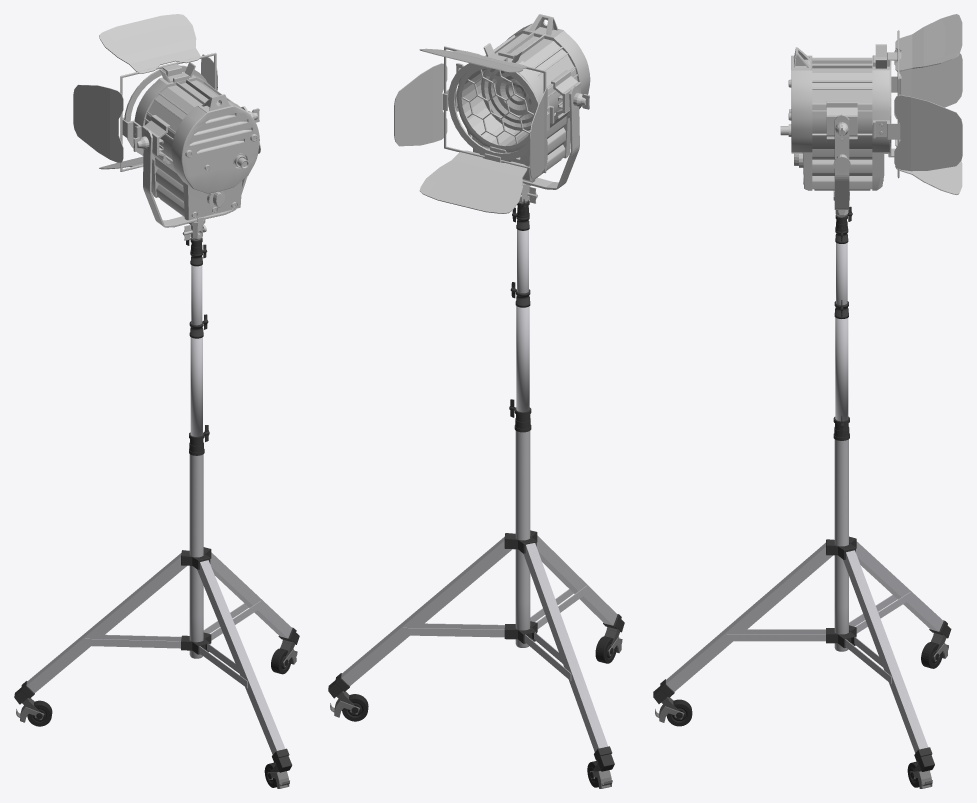
Rendered from Arri_Light.fbx.
3 renders of one model, left to right at view 1: azimuth 30°, elevation 25°; view 2: azimuth 150°, elevation 25°; view 3: azimuth 270°, elevation 25°, orthographic. The views are drawn at different scales.
Parts seen in each view (by area): view 1: Light_head.001, Light_base.001, Light_pipe_low.001, Light_wheel.003, Light_head_cage.001, Light_pipe_mid.001, Light_up.001; view 2: Light_head.001, Light_base.001, Light_pipe_low.001, Light_wheel.003, Light_pipe_mid.001, Light_head_cage.001, Light_up.001; view 3: Light_head.001, Light_base.001, Light_pipe_low.001, Light_wheel.003, Light_pipe_mid.001, Light_head_cage.001, Light_up.001.
Part boxes in pixels (x1=…): Light_head.001: x1=73, y1=14, x2=259, y2=220; Light_base.001: x1=26, y1=552, x2=292, y2=754; Light_pipe_low.001: x1=189, y1=425, x2=209, y2=658; Light_wheel.003: x1=14, y1=627, x2=299, y2=788; Light_head_cage.001: x1=133, y1=106, x2=260, y2=240; Light_pipe_mid.001: x1=189, y1=314, x2=208, y2=436; Light_up.001: x1=190, y1=244, x2=207, y2=325; Light_head.001: x1=394, y1=14, x2=590, y2=213; Light_base.001: x1=341, y1=535, x2=617, y2=752; Light_pipe_low.001: x1=509, y1=399, x2=531, y2=647; Light_wheel.003: x1=328, y1=614, x2=624, y2=788; Light_pipe_mid.001: x1=510, y1=282, x2=530, y2=412; Light_head_cage.001: x1=455, y1=63, x2=589, y2=203; Light_up.001: x1=512, y1=207, x2=529, y2=293; Light_head.001: x1=780, y1=14, x2=962, y2=194; Light_base.001: x1=666, y1=541, x2=943, y2=752; Light_pipe_low.001: x1=833, y1=415, x2=849, y2=651; Light_wheel.003: x1=653, y1=620, x2=951, y2=788; Light_pipe_mid.001: x1=834, y1=300, x2=848, y2=421; Light_head_cage.001: x1=833, y1=114, x2=850, y2=217; Light_up.001: x1=835, y1=227, x2=848, y2=305.
Size of the model in its own units: 5510 by 12638 by 5130.
